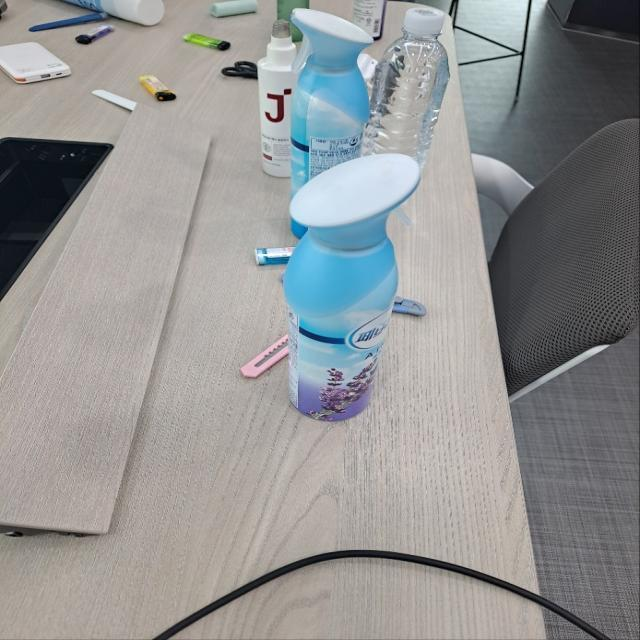cutter: (238, 330, 298, 383), (26, 9, 112, 38), (84, 82, 144, 120), (388, 292, 438, 323)
lighter: (132, 73, 184, 104), (180, 29, 238, 54), (252, 240, 300, 270), (74, 24, 116, 56)
portable_charger: (0, 39, 78, 87), (206, 0, 264, 24)
scissors: (220, 58, 262, 82)
spray: (283, 151, 429, 428), (281, 8, 375, 235), (256, 20, 304, 182), (41, 0, 172, 28), (270, 0, 314, 41), (353, 0, 393, 39)
water: (358, 3, 456, 162)
